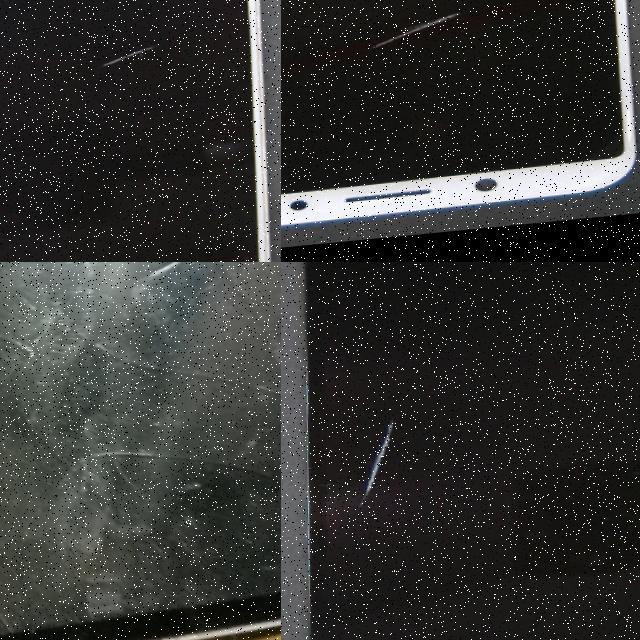scratch: (341, 416, 415, 515), (358, 18, 453, 61), (89, 42, 168, 84)
screen crack: (0, 262, 281, 640)
